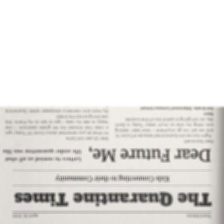news_paper: (0, 105, 224, 224)
